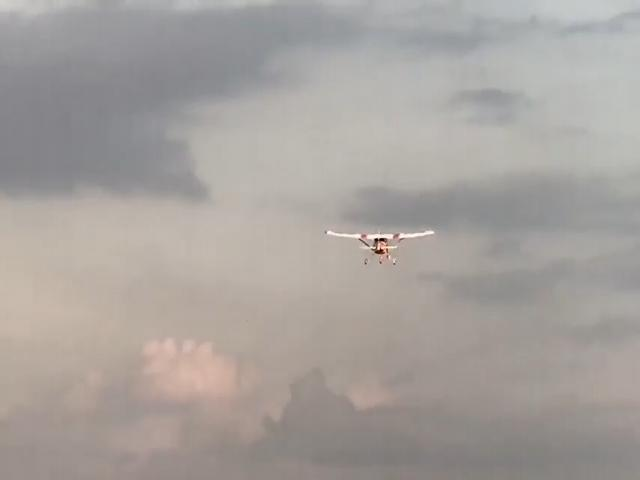plane: (325, 229, 434, 264)
